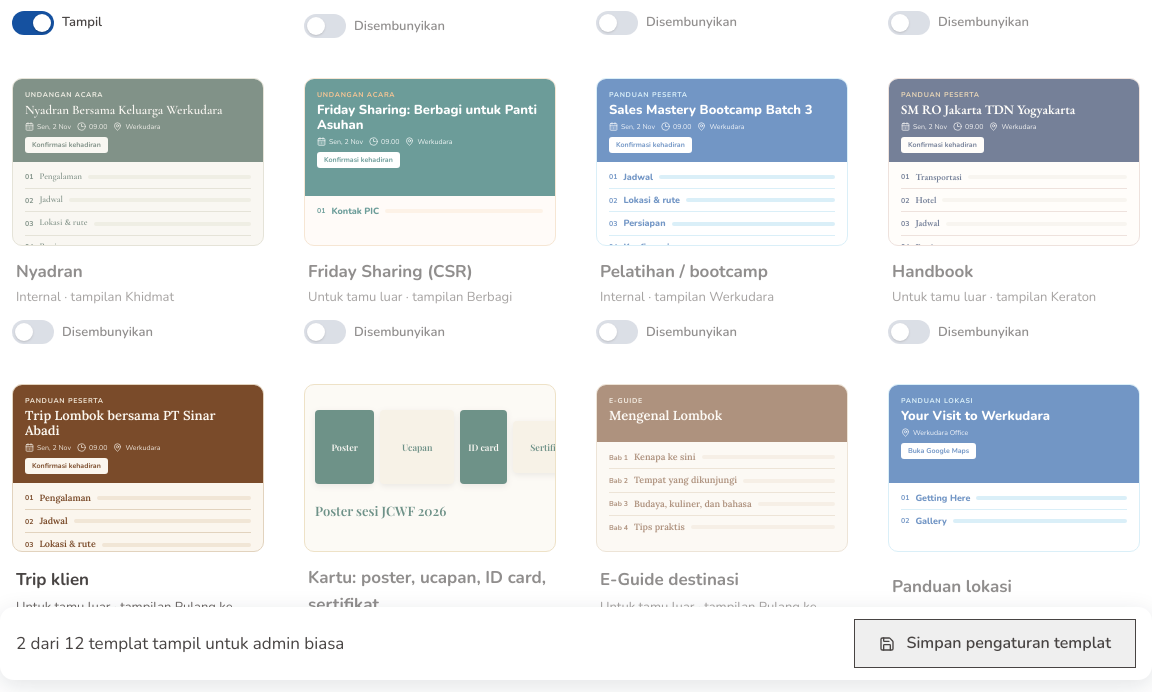
it: shows every template with its miniature and saves which ones admins see
This screenshot has width=1152, height=692.
(page scrolled)
Expected: the switch named "Welcome tampil untuk admin" is checked, [12,11,54,35]
What coordinates should you click on to do the following:
click the switch named "Nyadran tampil untuk admin"
I would click on:
 (33, 332)
Its box is [12,320,54,344].
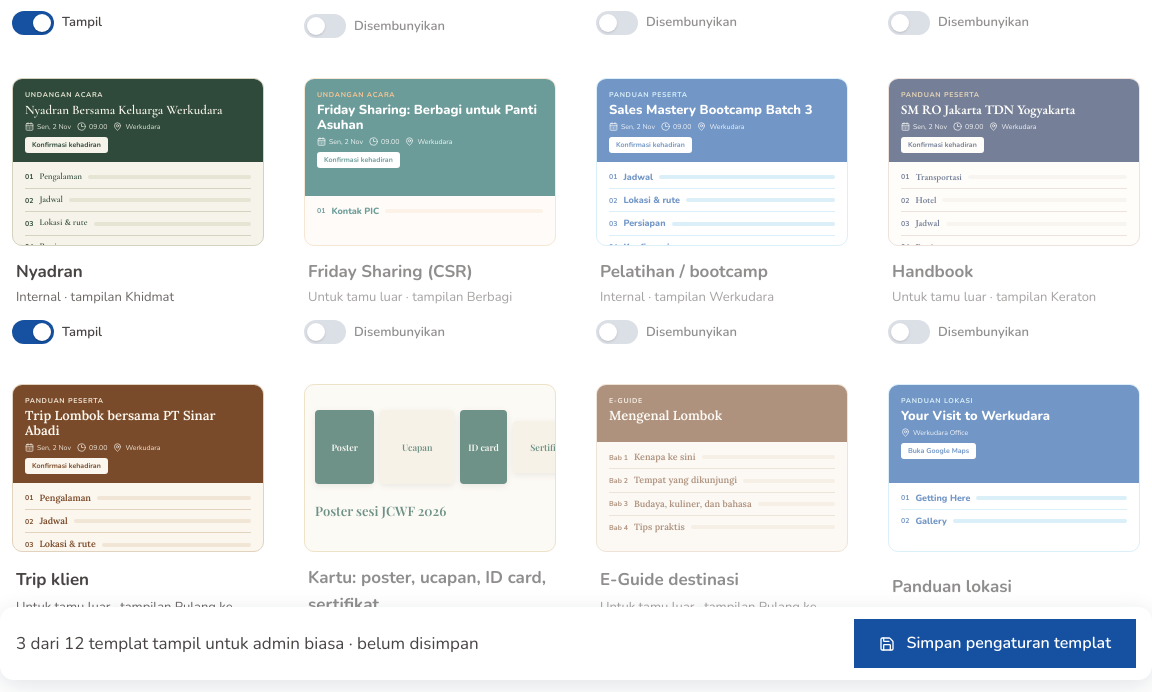
What coordinates should you click on to do the following:
click the button "Simpan pengaturan templat"
I would click on:
 (995, 644)
Its box is [854,620,1136,668].
(page scrolled)
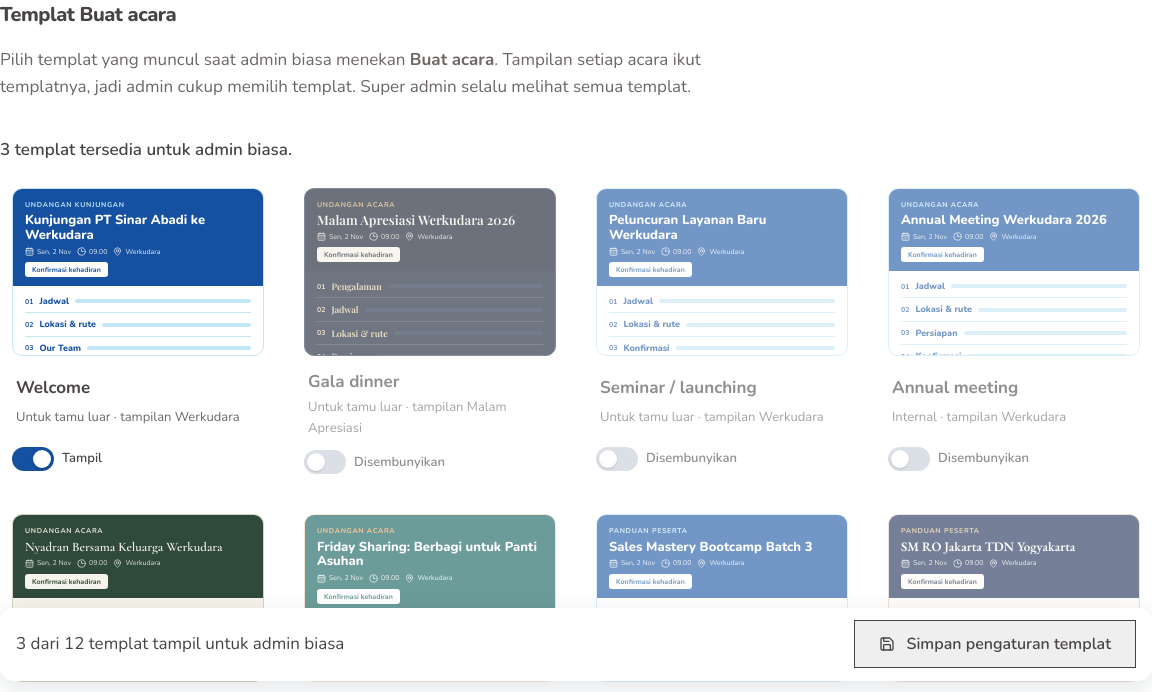
Now the text "3 templat tersedia untuk admin biasa." is shown, box [0,138,292,161]
